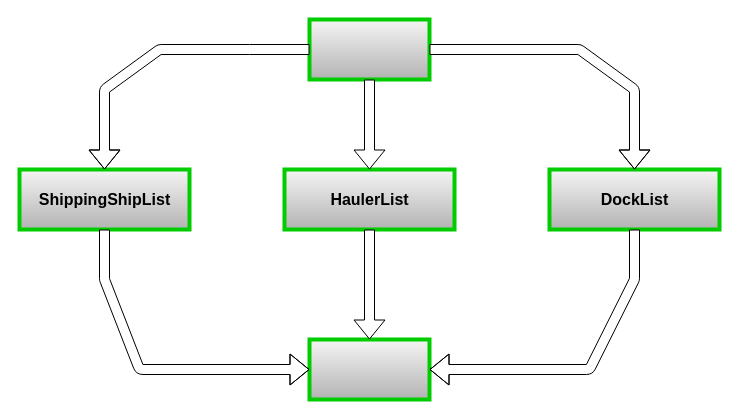
This 738x418 diagram has some shape labels left out. The shapes that lost their labels are listed below. From the top down, each one's box as (x1, y1, x2, y2) in pixels, then its label:
(307, 17, 431, 81): main
(307, 337, 431, 401): database
